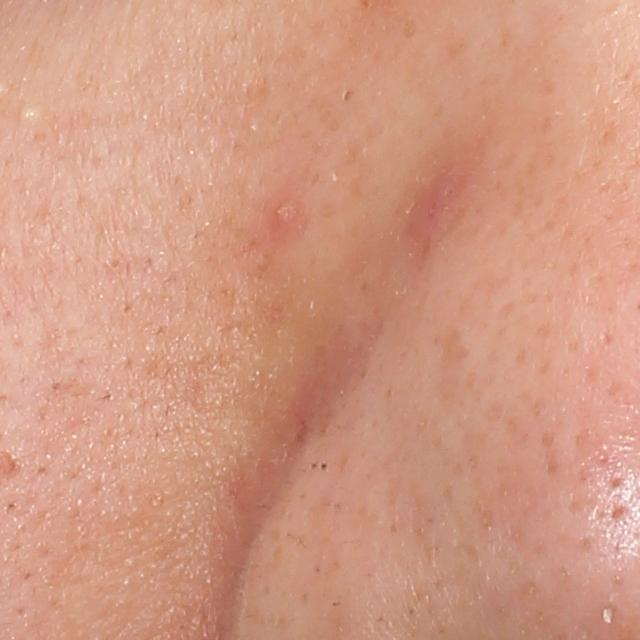comedo: (13, 99, 40, 127)
papule: (258, 188, 312, 237)
